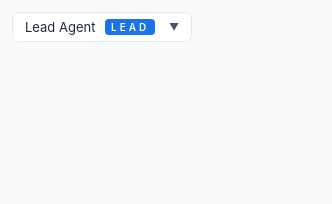
Test: TargetSelector › shows correct badge types for lead, package, agent
Click the button with aria-label "current target: lead agent" at [102, 27], box [12,12,192,42]
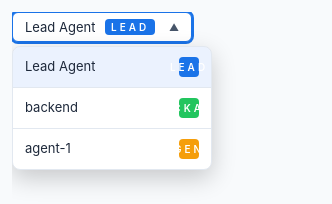
Expected: the option named "lead agentlead" shows "Lead", [13,47,211,88]
Expected: the option named "backendpackage" shows "package", [13,88,211,129]
Expected: the option named "agent-1agent" shows "agent", [25,139,199,159]
